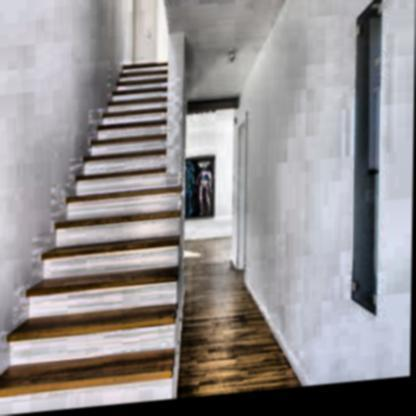stair: (8, 54, 185, 410)
